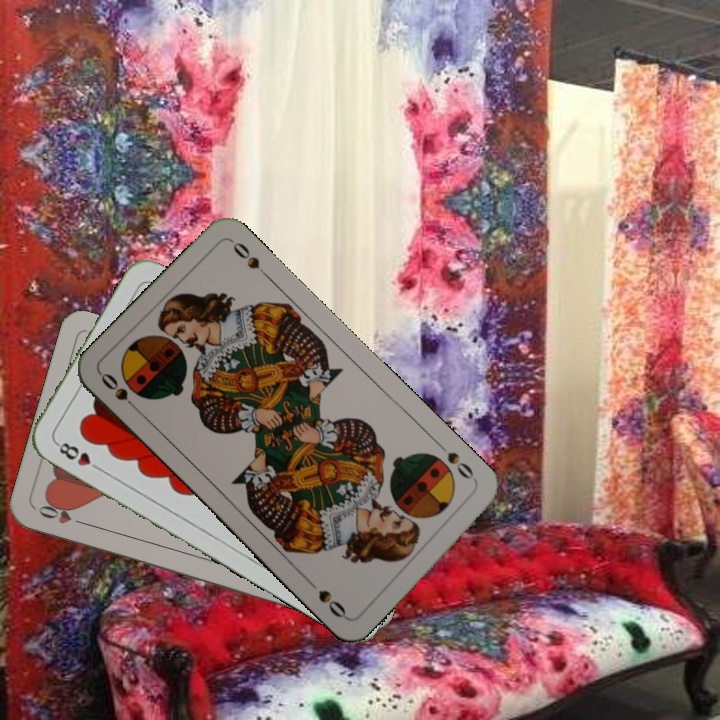H8: (52, 438, 105, 474)
HO: (33, 501, 90, 529)
SO: (96, 369, 143, 415), (435, 440, 480, 487)
